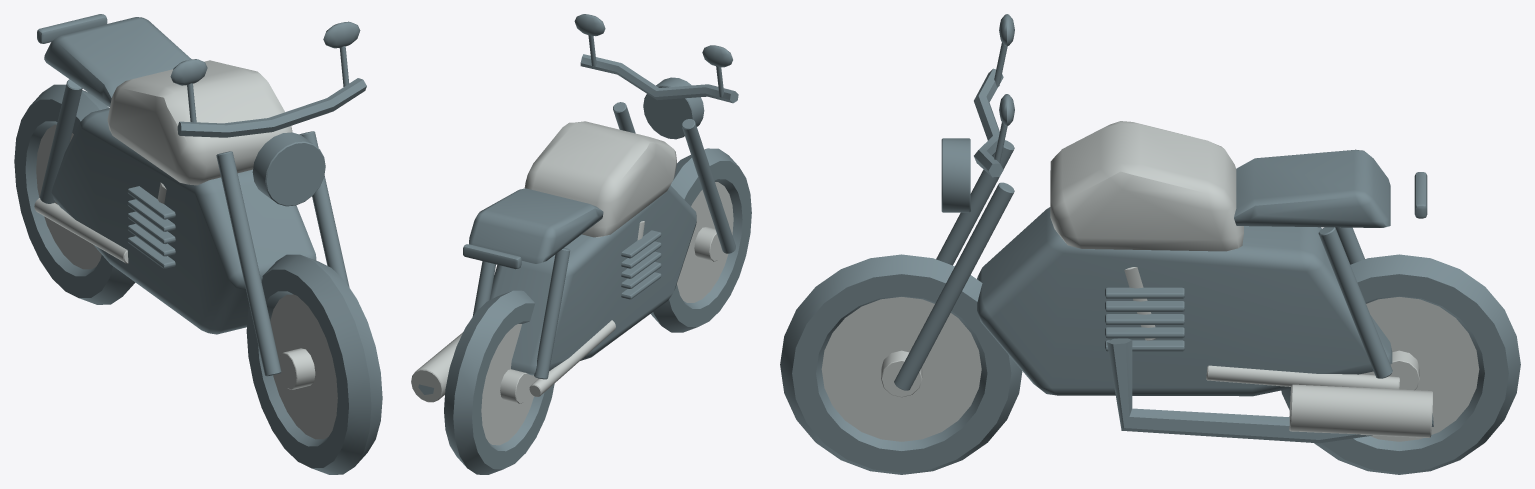
File: motorcycle.glb
3 views of the same model, side by side, from view 1: azimuth 30°, elevation 25°; view 2: azimuth 150°, elevation 25°; view 3: azimuth 270°, elevation 25° (orthographic). The views are drawn at different scales.
Parts seen in each view (by area): view 1: engine_frame, road_wheel_tire.001, fuel_tank, road_wheel_tire, seat, road_wheel_wheel_face.001, headlamp, front_fork, handlebars, road_wheel_wheel_face, shock, front_fork.001 (+10 smaller); view 2: engine_frame, fuel_tank, road_wheel_tire, seat, road_wheel_tire.001, road_wheel_wheel_face, road_wheel_wheel_face.001, headlamp, front_fork, handlebars, shock, muffler (+13 smaller); view 3: engine_frame, road_wheel_tire.001, fuel_tank, road_wheel_tire, road_wheel_wheel_face.001, seat, road_wheel_wheel_face, muffler, exhaust, front_fork.001, shock.001, rear_swingarm.001 (+9 smaller).
Boxes of the visible parts, x1=… form: engine_frame: x1=51, y1=108, x2=316, y2=334; road_wheel_tire.001: x1=246, y1=254, x2=382, y2=474; fuel_tank: x1=107, y1=60, x2=292, y2=185; road_wheel_tire: x1=14, y1=84, x2=135, y2=304; seat: x1=44, y1=17, x2=191, y2=107; road_wheel_wheel_face.001: x1=270, y1=294, x2=337, y2=439; headlamp: x1=252, y1=132, x2=325, y2=206; front_fork: x1=216, y1=151, x2=281, y2=376; handlebars: x1=177, y1=78, x2=366, y2=137; road_wheel_wheel_face: x1=36, y1=124, x2=101, y2=269; shock: x1=40, y1=79, x2=82, y2=203; front_fork.001: x1=299, y1=131, x2=349, y2=287; engine_frame: x1=490, y1=185, x2=696, y2=375; fuel_tank: x1=524, y1=121, x2=676, y2=237; road_wheel_tire: x1=444, y1=290, x2=554, y2=474; seat: x1=469, y1=188, x2=603, y2=263; road_wheel_tire.001: x1=650, y1=148, x2=751, y2=332; road_wheel_wheel_face: x1=481, y1=324, x2=537, y2=445; road_wheel_wheel_face.001: x1=677, y1=182, x2=733, y2=302; headlamp: x1=643, y1=77, x2=704, y2=139; front_fork: x1=681, y1=119, x2=735, y2=253; handlebars: x1=580, y1=54, x2=738, y2=103; shock: x1=534, y1=247, x2=570, y2=379; muffler: x1=411, y1=332, x2=462, y2=402; engine_frame: x1=977, y1=207, x2=1392, y2=396; road_wheel_tire.001: x1=780, y1=254, x2=1022, y2=474; fuel_tank: x1=1050, y1=121, x2=1243, y2=251; road_wheel_tire: x1=1281, y1=254, x2=1520, y2=474; road_wheel_wheel_face.001: x1=821, y1=297, x2=981, y2=441; seat: x1=1234, y1=149, x2=1390, y2=227; road_wheel_wheel_face: x1=1361, y1=297, x2=1479, y2=441; muffler: x1=1289, y1=384, x2=1432, y2=437; exhaust: x1=1107, y1=338, x2=1433, y2=443; front_fork.001: x1=894, y1=182, x2=1014, y2=390; shock.001: x1=1318, y1=227, x2=1392, y2=378; rear_swingarm.001: x1=1206, y1=365, x2=1399, y2=389.
Size of the model in its own units: 0.646 by 1.27 by 2.04.
